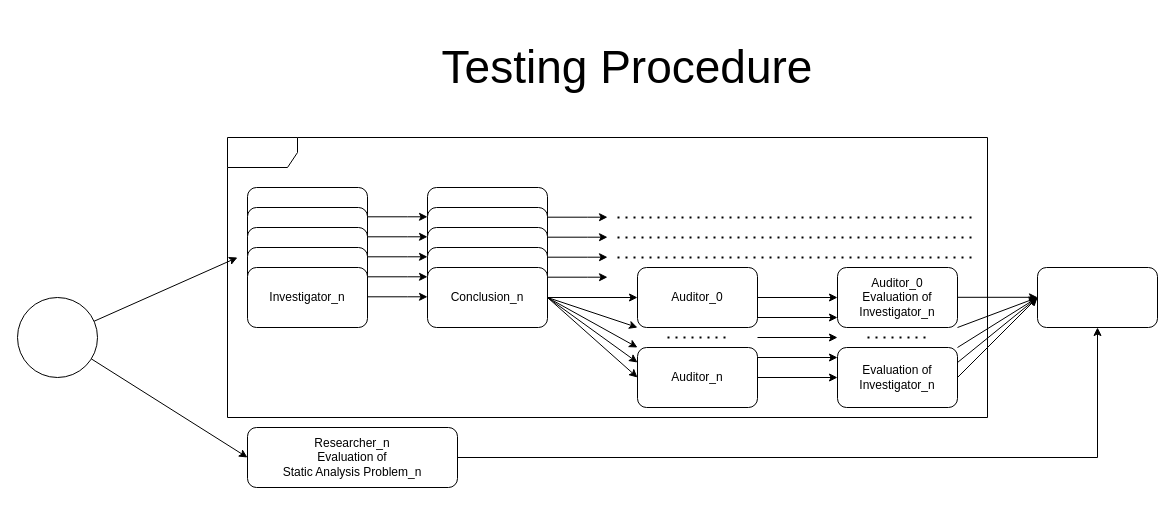
Some shapes in this 1175 by 505 pixel diagram are drawn without their labels. The centre of each missing label's shape, as x and y in pixels:
"Automated" belongs at (x=607, y=277).
"Researcher_n Evaluation of Auditor_n" belongs at (x=1097, y=297).
"Static Analysis Problem" belongs at (x=57, y=337).
